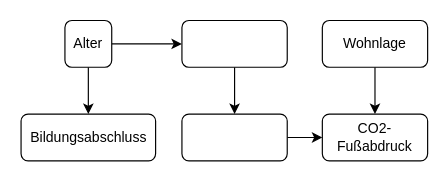
The diagram is 448 pixels wide and 181 high, and some of its shapes have lost their labels. Each missing label, with the centre of its shape:
"Politische Orientierung" belongs at pixel 234 43.
"Soziales" belongs at pixel 234 137.
